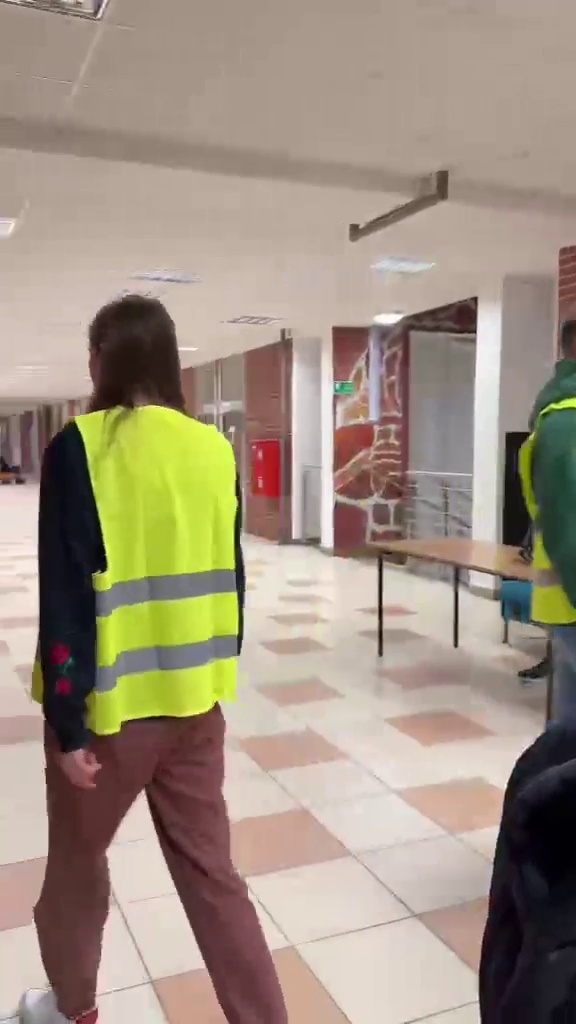vest: (26, 281, 288, 1010)
